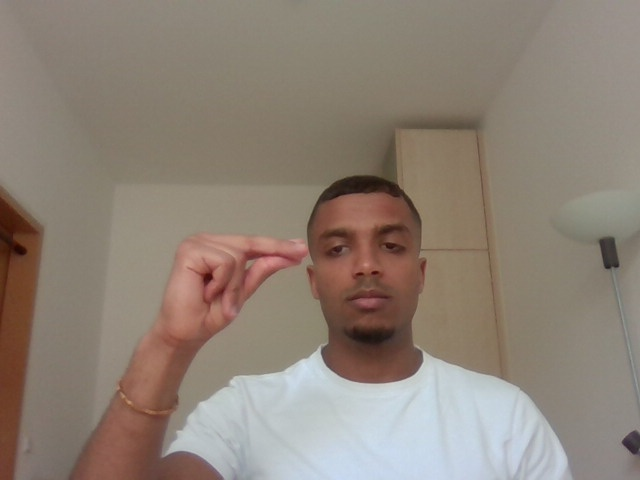no: (140, 209, 314, 356)
